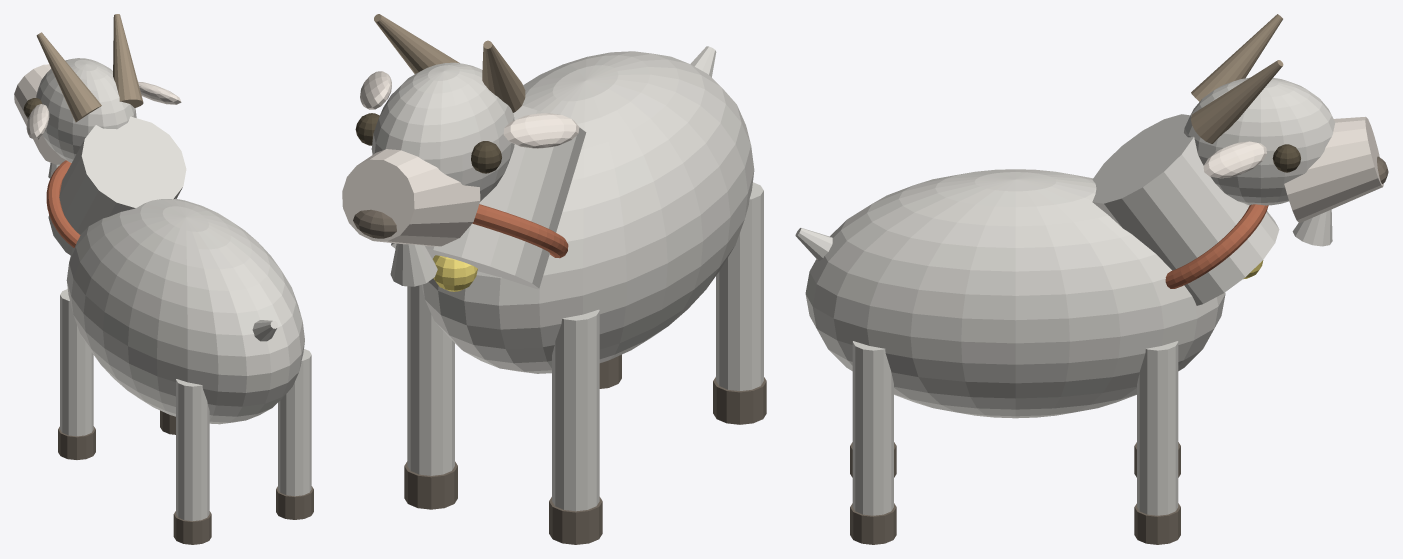
The model's file is goat.glb.
The picture shows the model from 3 angles, left to right: view 1: azimuth 30°, elevation 25°; view 2: azimuth 150°, elevation 25°; view 3: azimuth 270°, elevation 25°; orthographic projection. The views are drawn at different scales.
Parts seen in each view (by area): view 1: Sphere, Cylinder, Sphere.001, Leg_BL, Leg_BR, Leg_FL, Horn_L, Horn_R, Cone, Torus, Hoof_BL, Hoof_BR (+4 smaller); view 2: Sphere, Sphere.001, Cylinder, Cone, Leg_FL, Leg_FR, Leg_BL, Ear_L, Torus, Hoof_FR, Hoof_FL, Hoof_BL (+9 smaller); view 3: Sphere, Cylinder, Sphere.001, Leg_BR, Leg_FR, Cone, Horn_R, Torus, Horn_L, Ear_R, Hoof_FR, Hoof_BR (+2 smaller).
Part boxes in pixels (left/top/right/bottom): Sphere: left=66, top=198, right=304, bottom=424; Cylinder: left=48, top=116, right=186, bottom=255; Sphere.001: left=36, top=58, right=136, bottom=162; Leg_BL: left=176, top=379, right=209, bottom=521; Leg_BR: left=278, top=349, right=311, bottom=496; Leg_FL: left=60, top=289, right=93, bottom=436; Horn_L: left=36, top=32, right=101, bottom=122; Horn_R: left=113, top=14, right=143, bottom=107; Cone: left=14, top=64, right=65, bottom=164; Torus: left=46, top=160, right=80, bottom=247; Hoof_BL: left=173, top=511, right=211, bottom=544; Hoof_BR: left=276, top=486, right=313, bottom=519; Sphere: left=422, top=51, right=754, bottom=373; Sphere.001: left=371, top=62, right=514, bottom=201; Cylinder: left=391, top=105, right=586, bottom=289; Cone: left=342, top=149, right=480, bottom=246; Leg_FL: left=552, top=309, right=599, bottom=511; Leg_FR: left=407, top=285, right=454, bottom=475; Leg_BL: left=716, top=182, right=763, bottom=390; Ear_L: left=503, top=113, right=579, bottom=148; Torus: left=472, top=204, right=568, bottom=258; Hoof_FR: left=404, top=461, right=457, bottom=509; Hoof_FL: left=549, top=497, right=602, bottom=544; Hoof_BL: left=713, top=377, right=766, bottom=424; Sphere: left=805, top=169, right=1225, bottom=418; Cylinder: left=1092, top=114, right=1279, bottom=305; Sphere.001: left=1184, top=77, right=1335, bottom=205; Leg_BR: left=852, top=341, right=893, bottom=515; Leg_FR: left=1137, top=341, right=1178, bottom=515; Cone: left=1284, top=116, right=1383, bottom=223; Horn_R: left=1191, top=60, right=1283, bottom=143; Torus: left=1165, top=204, right=1268, bottom=288; Horn_L: left=1191, top=14, right=1282, bottom=101; Ear_R: left=1203, top=141, right=1266, bottom=178; Hoof_FR: left=1134, top=503, right=1180, bottom=544; Hoof_BR: left=850, top=503, right=896, bottom=544.
Bounding box in the file's own units: 0.91 × 1.99 × 2.29.
